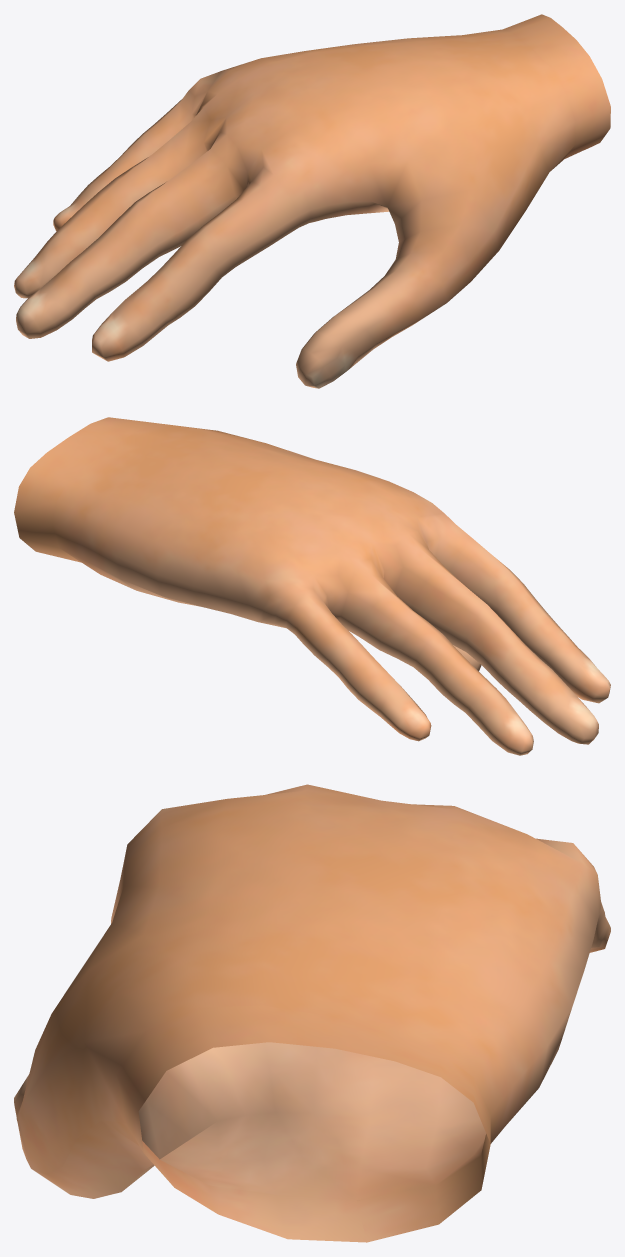
Rendered from H_parallel_extension.fbx.
3 renders of one model, top to bottom at view 1: azimuth 30°, elevation 25°; view 2: azimuth 150°, elevation 25°; view 3: azimuth 270°, elevation 25°, orthographic. The views are drawn at different scales.
Visible parts, largest first — view 1: H_parallel_extension; view 2: H_parallel_extension; view 3: H_parallel_extension.
Part boxes in pixels (<box>): H_parallel_extension: <box>14,14,610,388</box>; H_parallel_extension: <box>14,417,610,755</box>; H_parallel_extension: <box>14,784,610,1242</box>.
Size of the model in its own units: 19.99 by 8.12 by 10.46.
Materials: 1 (1 with a texture image).
